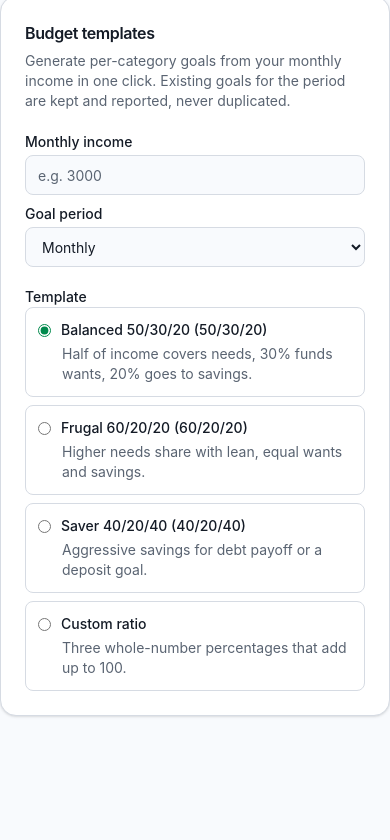
it: TemplatesSection single-flight apply › ignores a second apply while the first is still writing
Type "3000" into the number field labelled "Monthly income" at (195, 175), box 25,155 -> 365,195
(page scrolled)
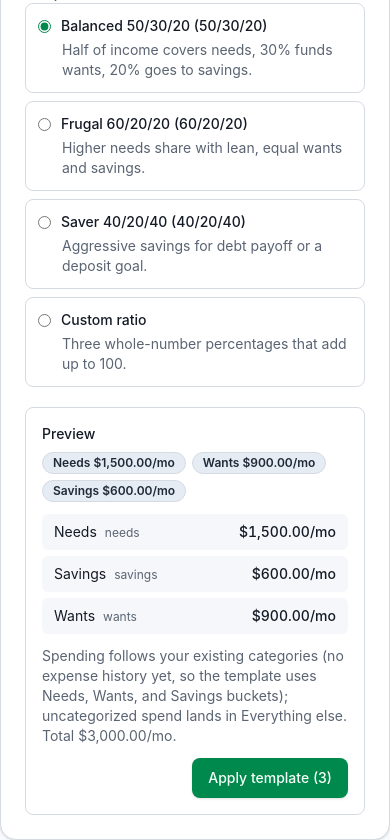
Click the button "Apply template (3)" at (270, 778), box 192,758 -> 348,798
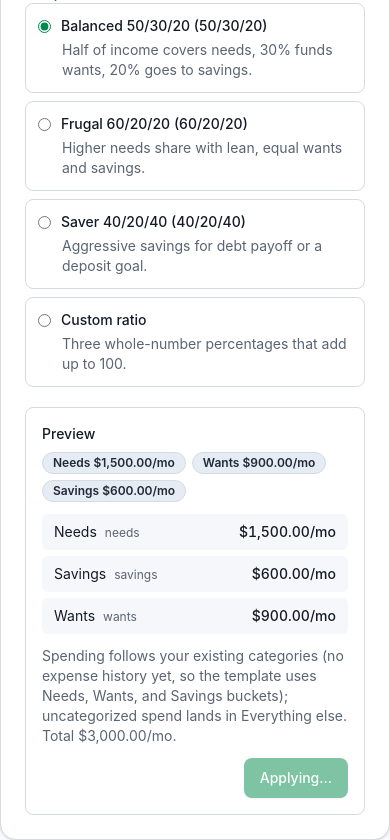
expect the button "Applying…" is disabled: met
Note: Second click while pending must not start another write batch.
Click the button "Applying…" at (296, 778), box 244,758 -> 348,798
(page scrolled)
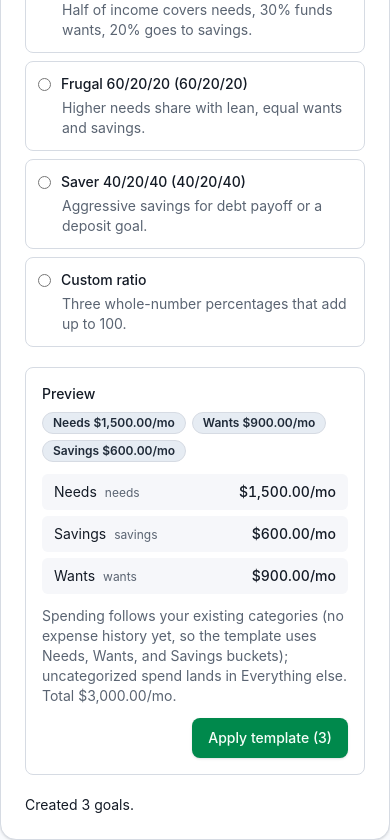
expect the text "Created 3 goals." is shown: met, box 25,796 -> 134,813
